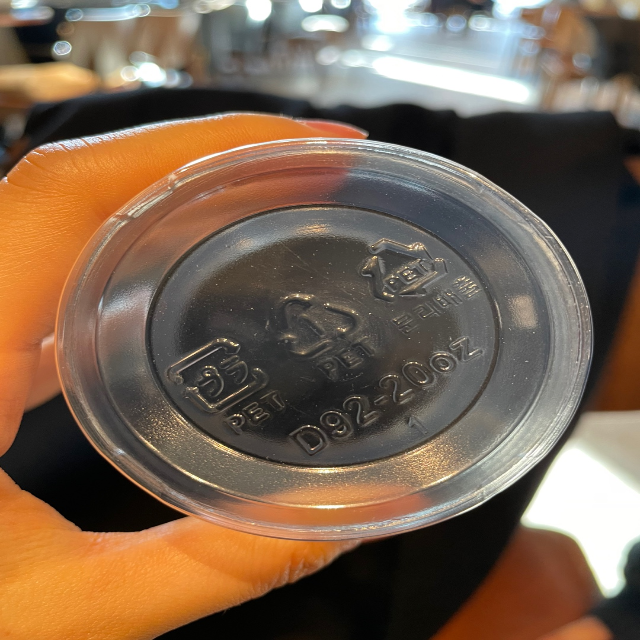pet: (359, 232, 489, 335), (159, 331, 288, 429), (267, 289, 380, 371)
